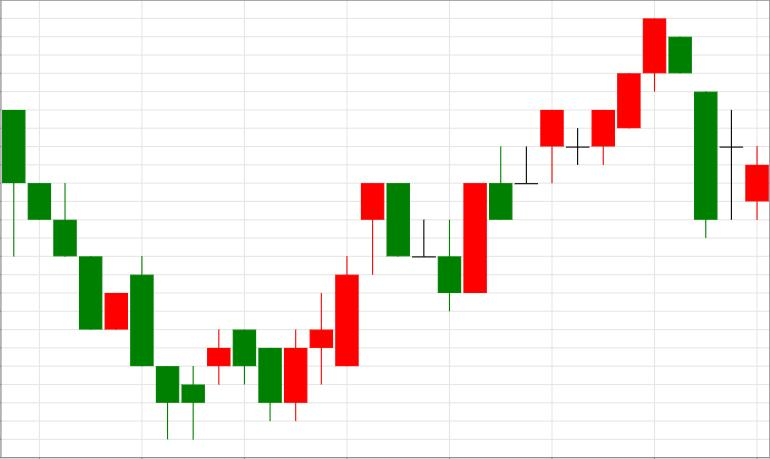hanging_man_fall: (284, 183, 384, 420)
